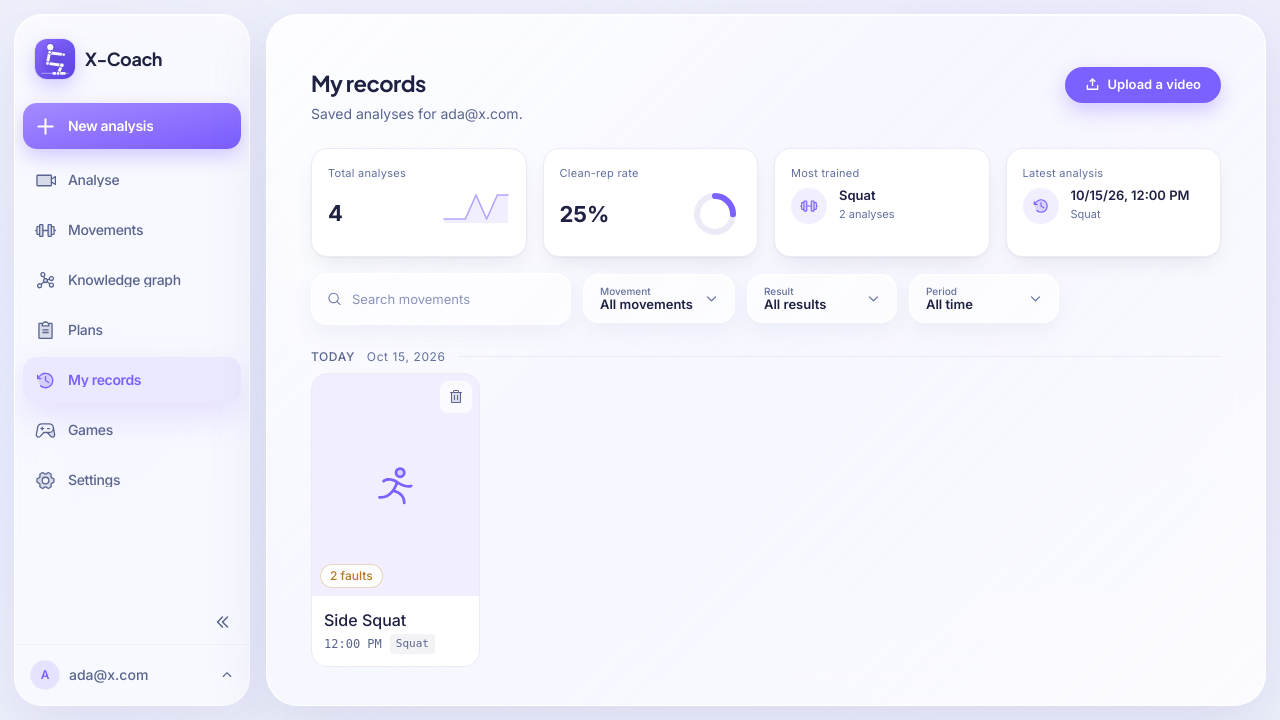
History — filters › offers a reset only while something is filtered, and it restores every row
Expected: the text "Total analyses" is shown, top-left (328, 166), bottom-right (406, 180)
Expected: the button "Clear filters" is not shown
Step 1. Click the button with aria-label "Movement:" → (659, 298), box top-left (583, 274), bottom-right (735, 323)
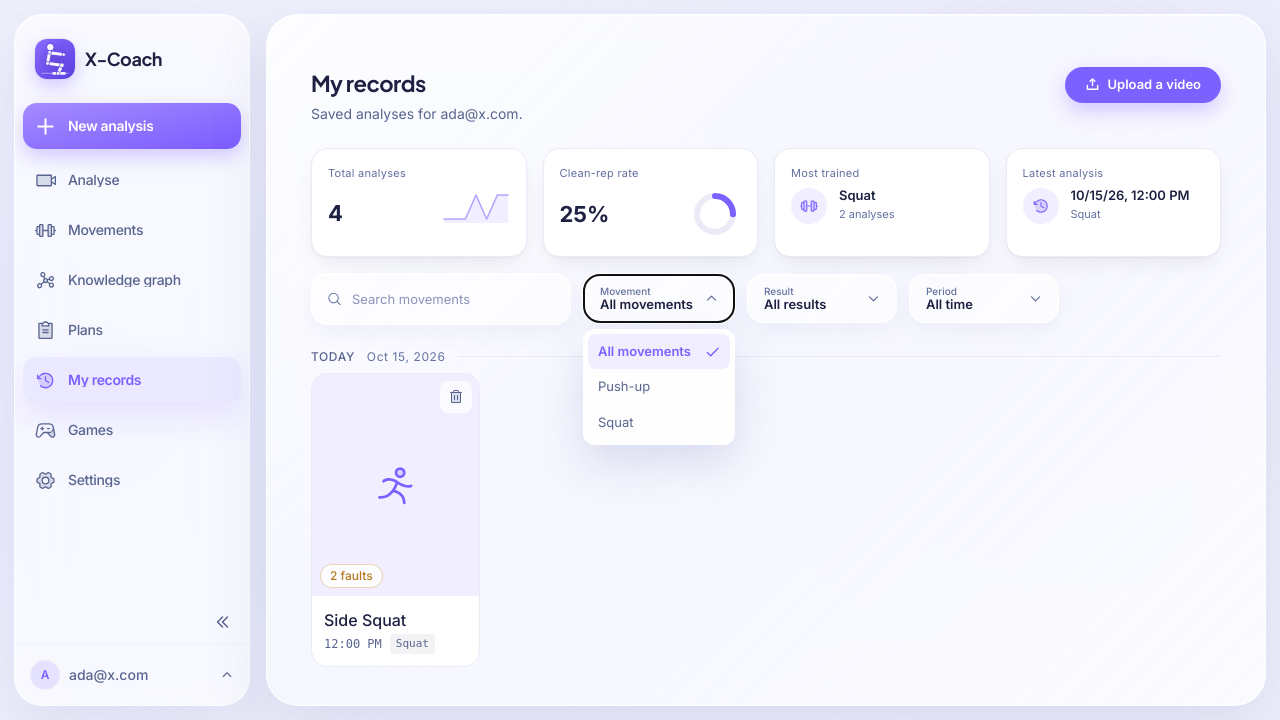
Step 2. Click the menu item "Push-up" → (659, 387), box top-left (588, 369), bottom-right (730, 405)
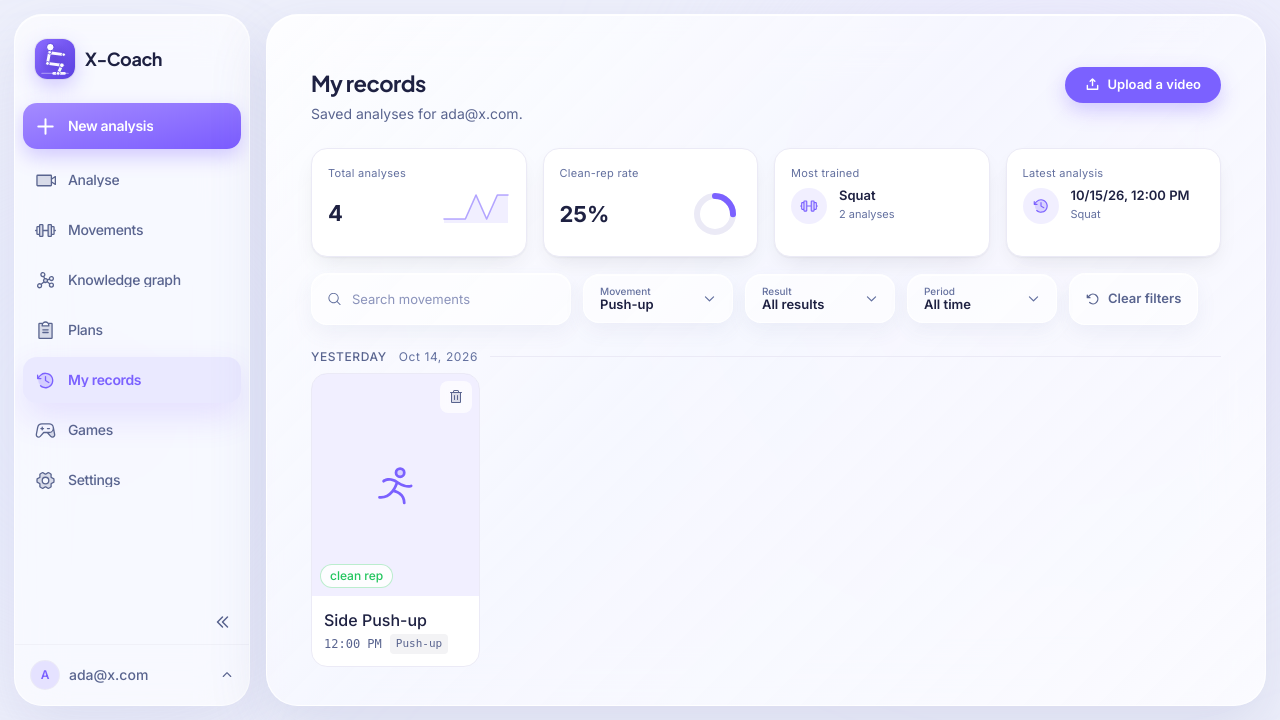
Step 3. Click the button "Clear filters" → (1134, 298), box top-left (1069, 272), bottom-right (1198, 324)
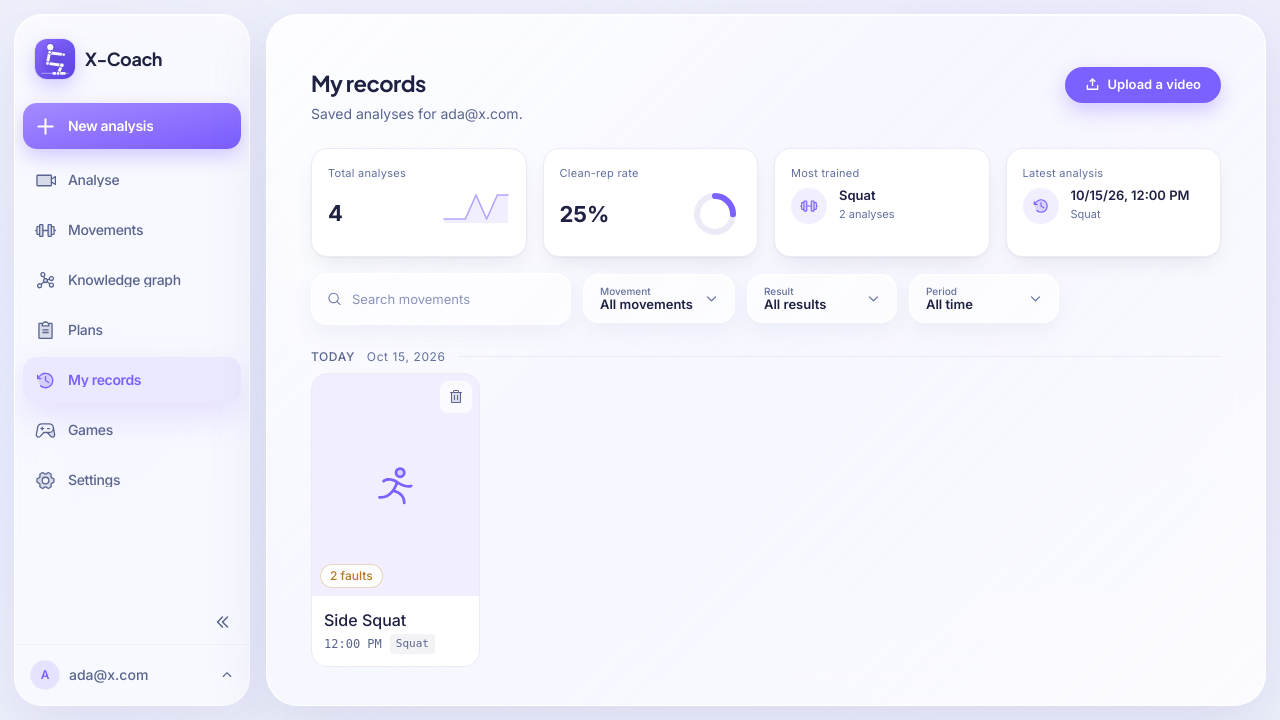
Result: the button "Clear filters" is gone
